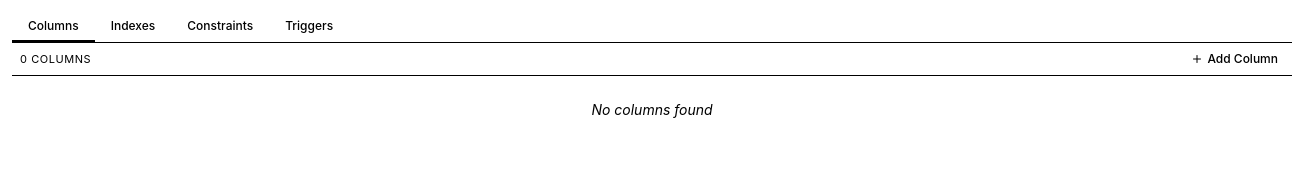
Test: StructurePanel first-render flash gate (sprint-176) › [AC-176-03] tab switch: 'No constraints found' is hidden until constraints fetch settles
Press the mouse on the tab "Constraints" at (220, 27), box left=171, top=12, right=269, bottom=42
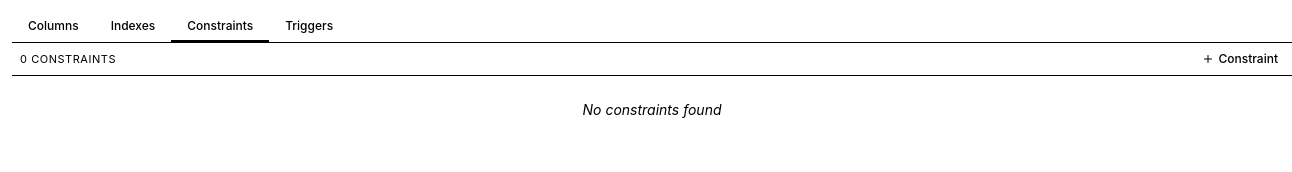
Result: the text "No constraints found" is shown at left=582, top=101, right=722, bottom=118
